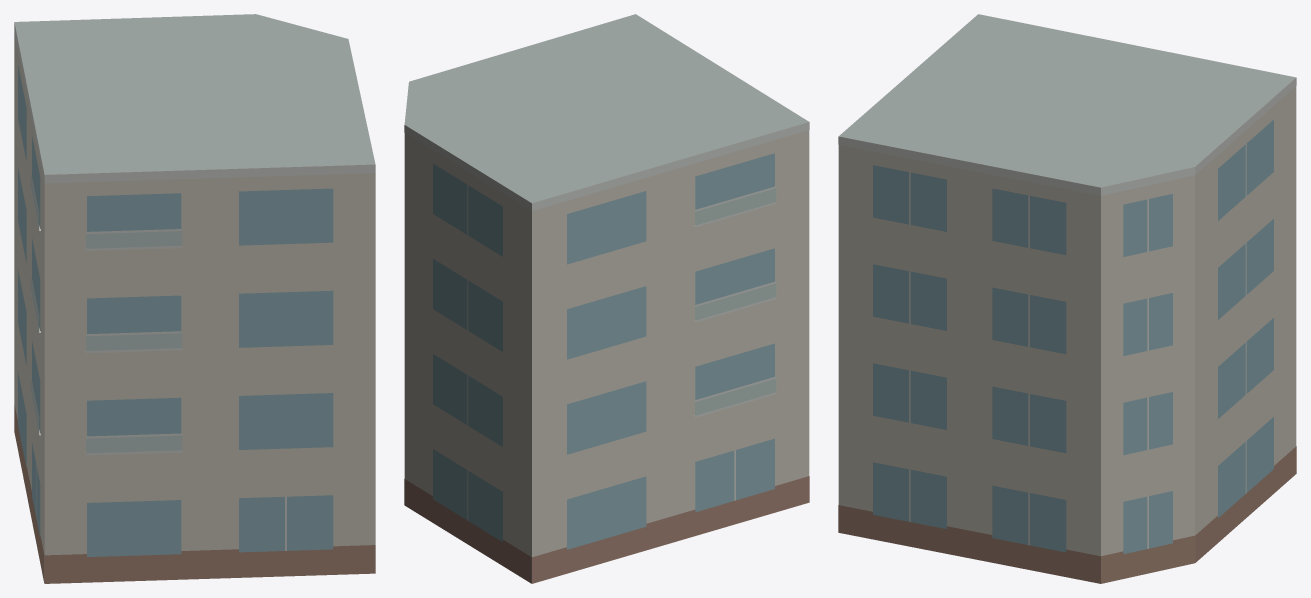
Rendered from survey-upis-32630393.glb.
3 renders of one model, left to right at view 1: azimuth 30°, elevation 25°; view 2: azimuth 150°, elevation 25°; view 3: azimuth 270°, elevation 25°, orthographic. The views are drawn at different scales.
Visible parts, largest first — view 1: survey-upis-32630393.tmp; view 2: survey-upis-32630393.tmp; view 3: survey-upis-32630393.tmp.
Boxes of the visible parts, x1,y1,x2,y2 form: survey-upis-32630393.tmp: (14, 14, 375, 583); survey-upis-32630393.tmp: (404, 14, 809, 583); survey-upis-32630393.tmp: (838, 14, 1296, 583).
Bounding box in the file's own units: 11 × 11.7 × 12.27.
